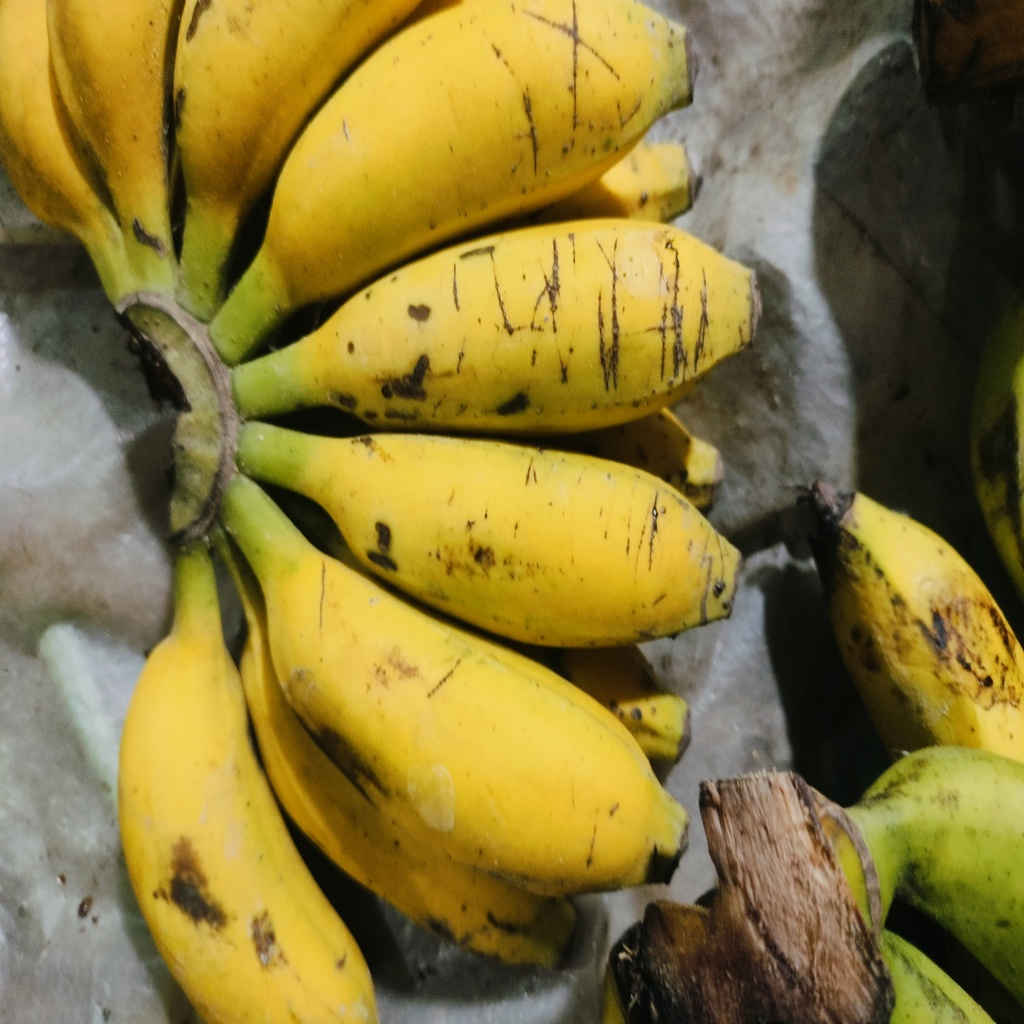healthy: (252, 566, 681, 889)
unhealthy: (277, 2, 702, 296), (315, 418, 738, 652), (316, 220, 757, 426)
